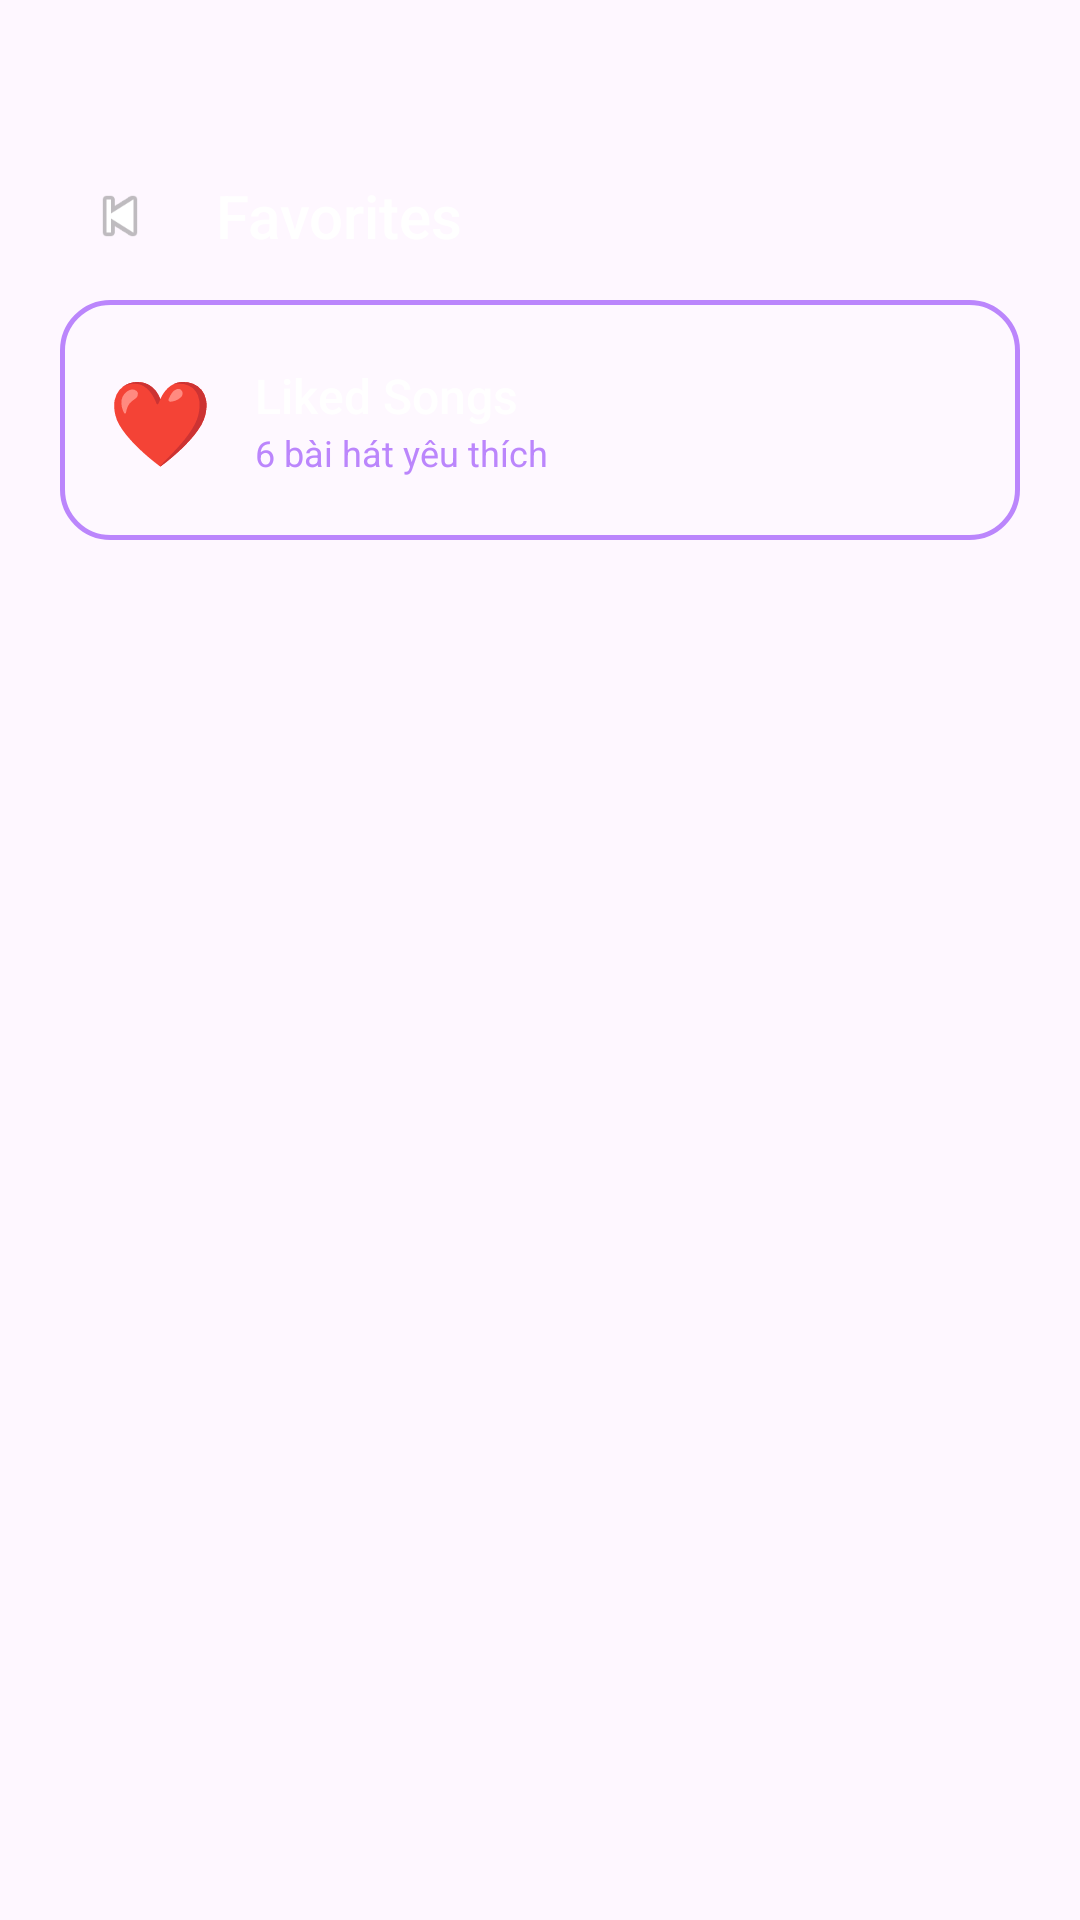

Icons on this 1080w x 1920h Android screen, each with the point to tap as point (x, y):
previous: point (120, 216)
